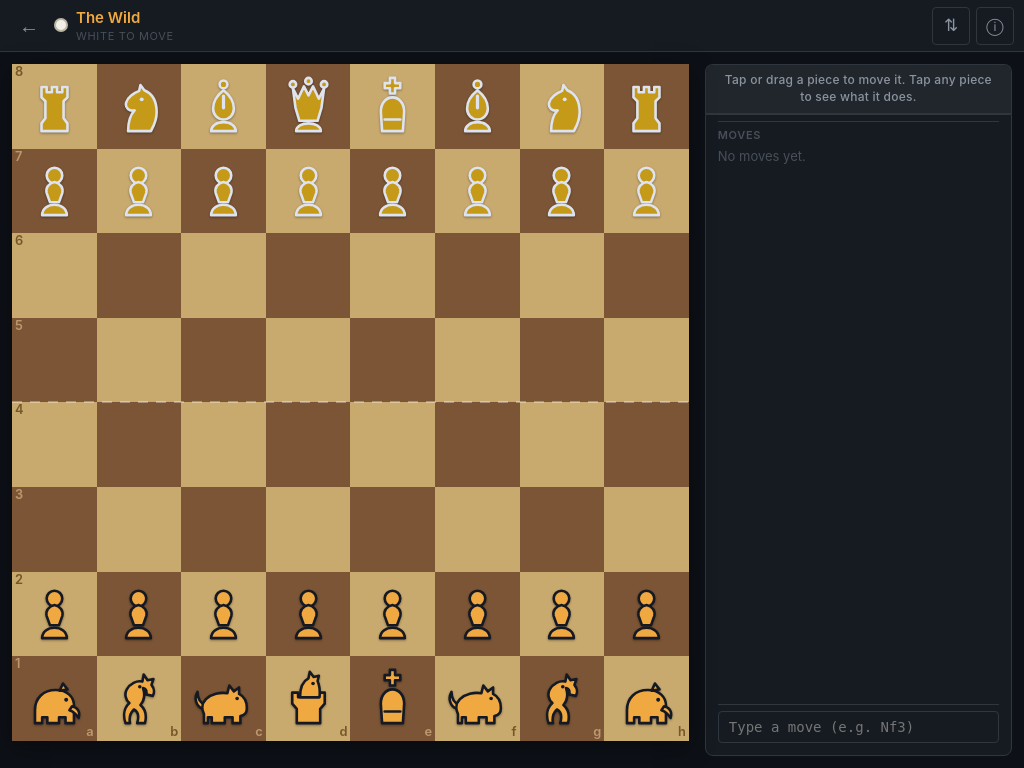
Test: piece info panel › hovering a piece with the mouse shows what it does, without selecting it
Hover over the cell "1 a" at (54, 698), box [12,656,97,741]
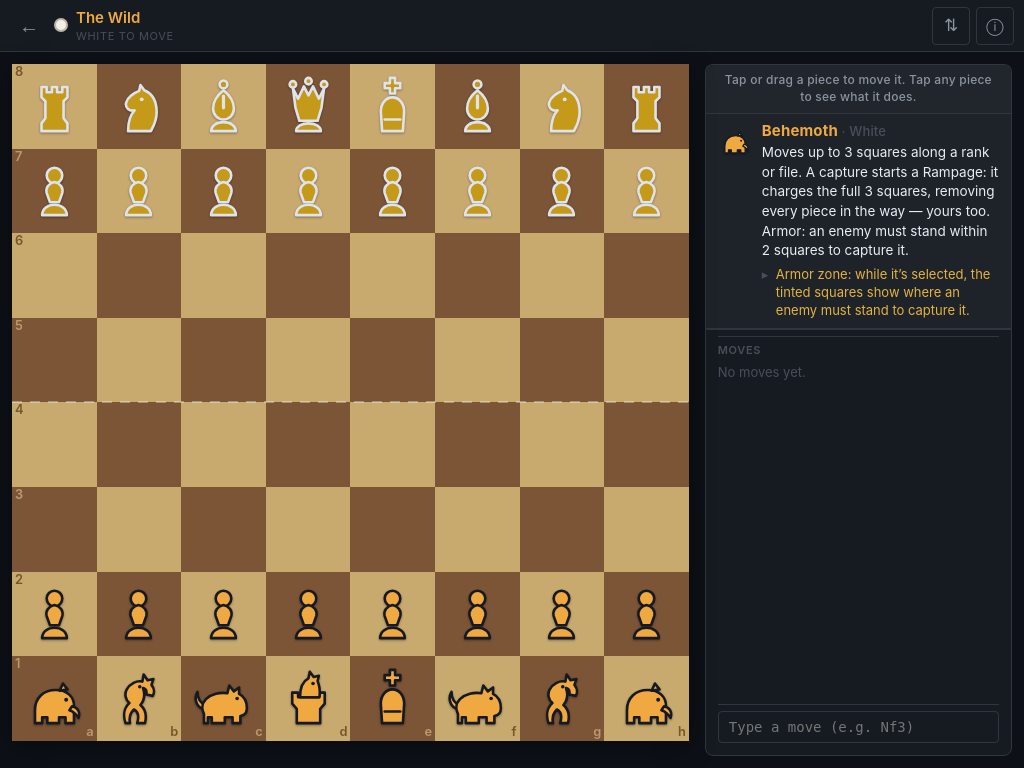
expect the element with test id "piece-info" shows "Behemoth": met, box [762,121,838,140]
Move the pointer off the table with class "board", box [12,64,689,741]
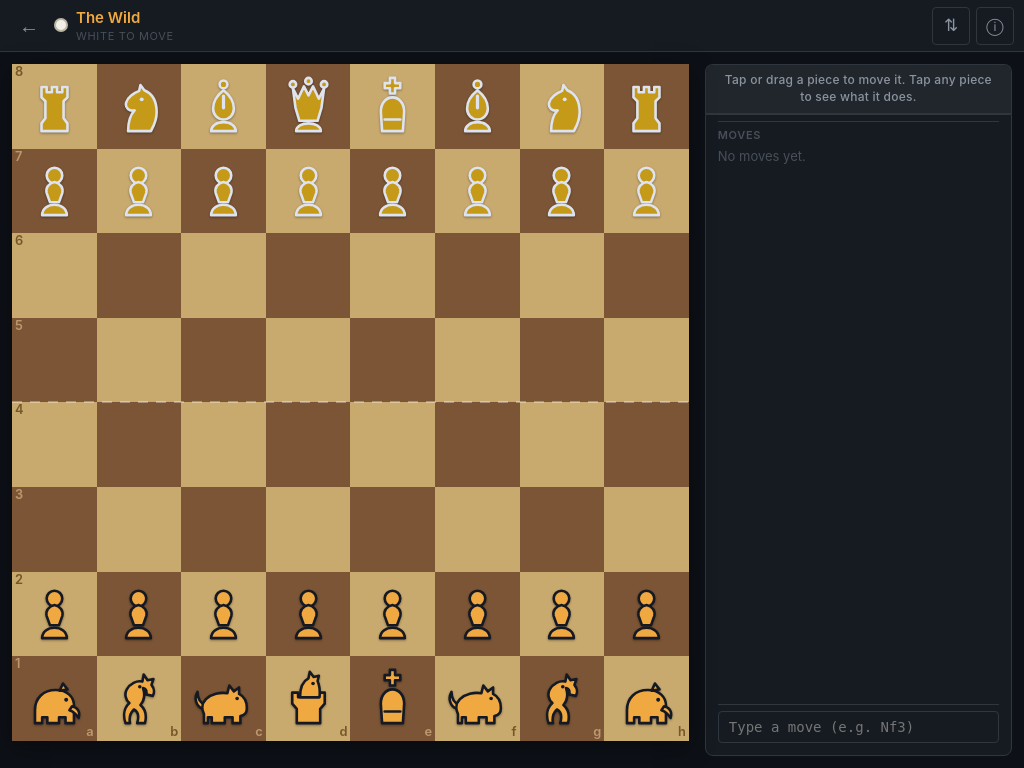
expect the element with test id "piece-info" is gone: met
